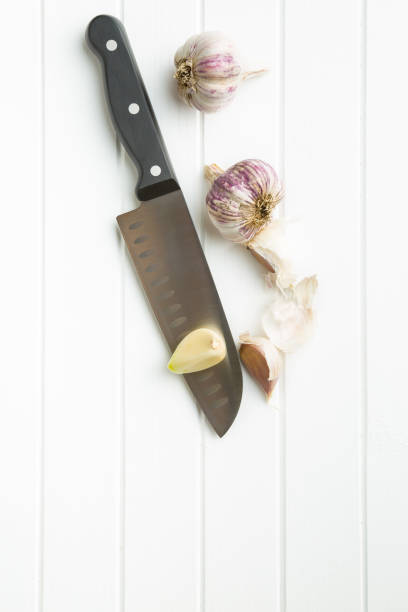knife: (83, 11, 247, 440)
